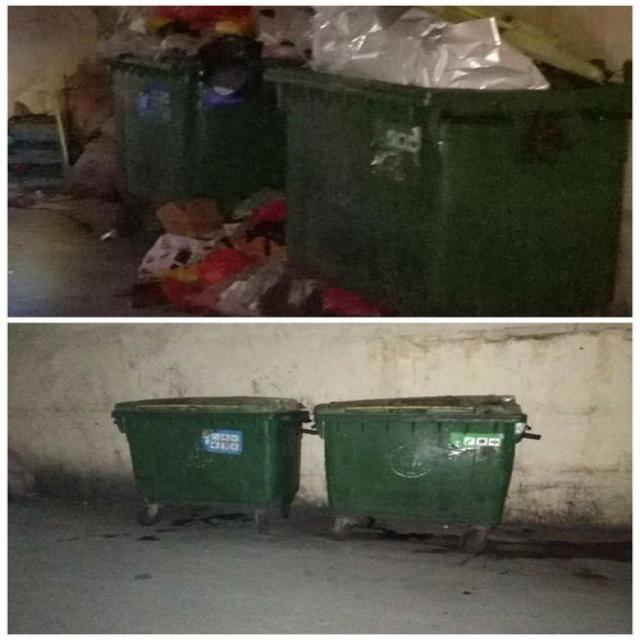garbage: (138, 187, 403, 314)
garbage_bin: (312, 392, 540, 523), (113, 394, 307, 505)
overflow: (266, 10, 628, 312), (100, 6, 282, 203)
